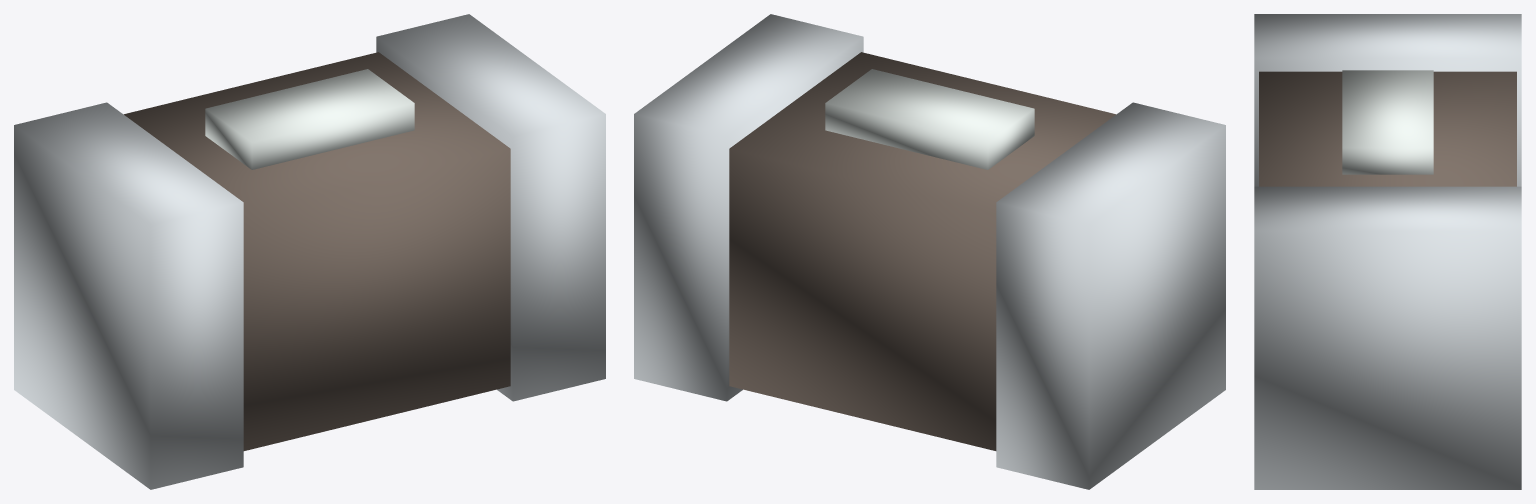
Rendered from 32_L94_R8_Shunt_0R1.glb.
3 views of the same model, side by side, from view 1: azimuth 30°, elevation 25°; view 2: azimuth 150°, elevation 25°; view 3: azimuth 270°, elevation 25° (orthographic). The views are drawn at different scales.
Visible parts, largest first — view 1: L94_Shunt_0R1_Part_0001, L94_Shunt_0R1_Part_0000, L94_Shunt_0R1_Part_0002; view 2: L94_Shunt_0R1_Part_0001, L94_Shunt_0R1_Part_0000, L94_Shunt_0R1_Part_0002; view 3: L94_Shunt_0R1_Part_0001, L94_Shunt_0R1_Part_0000, L94_Shunt_0R1_Part_0002.
Part boxes in pixels (box(x1,y1,x2,y2)): L94_Shunt_0R1_Part_0001: box(14, 14, 605, 489); L94_Shunt_0R1_Part_0000: box(124, 52, 510, 450); L94_Shunt_0R1_Part_0002: box(205, 69, 414, 169); L94_Shunt_0R1_Part_0001: box(634, 14, 1225, 489); L94_Shunt_0R1_Part_0000: box(729, 52, 1115, 450); L94_Shunt_0R1_Part_0002: box(825, 69, 1034, 169); L94_Shunt_0R1_Part_0001: box(1254, 14, 1521, 489); L94_Shunt_0R1_Part_0000: box(1259, 71, 1516, 186); L94_Shunt_0R1_Part_0002: box(1342, 70, 1433, 174).
Bounding box in the file's own units: 0.0521 × 0.0305 × 0.0271.
